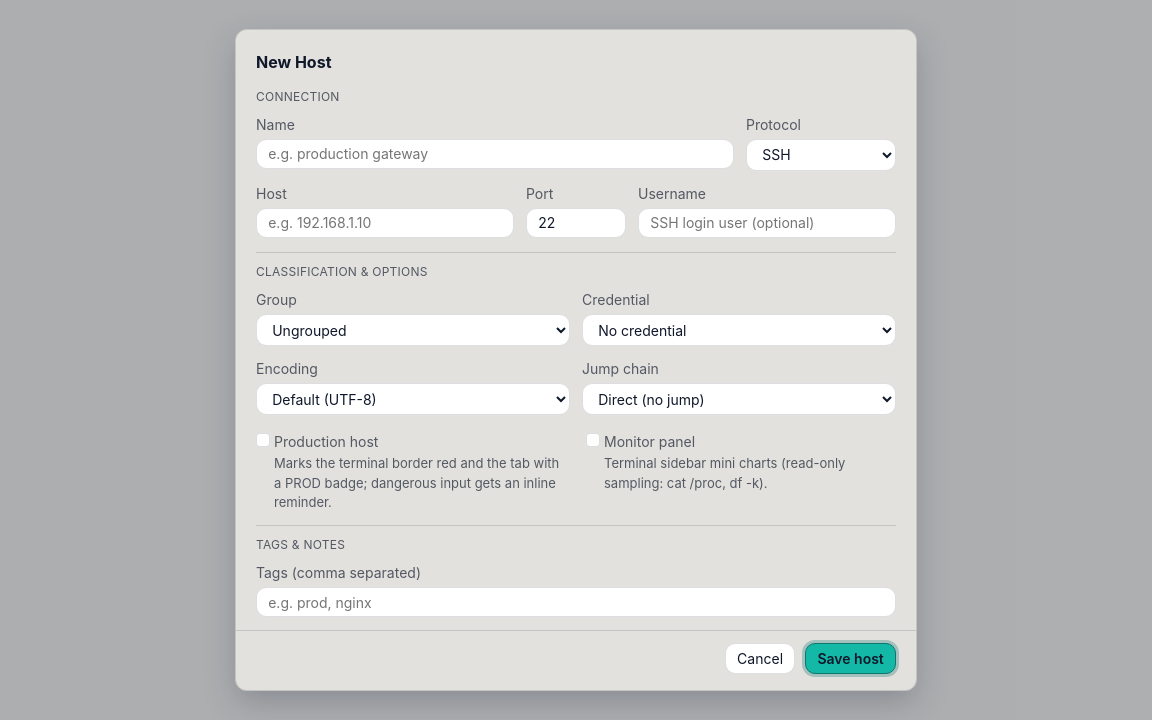
Test: HostForm › 地址为空提交：显示校验错误，不发 hosts_create
Click the button with test id "form-submit": {"x": 851, "y": 658} x1=805 y1=643 x2=896 y2=674
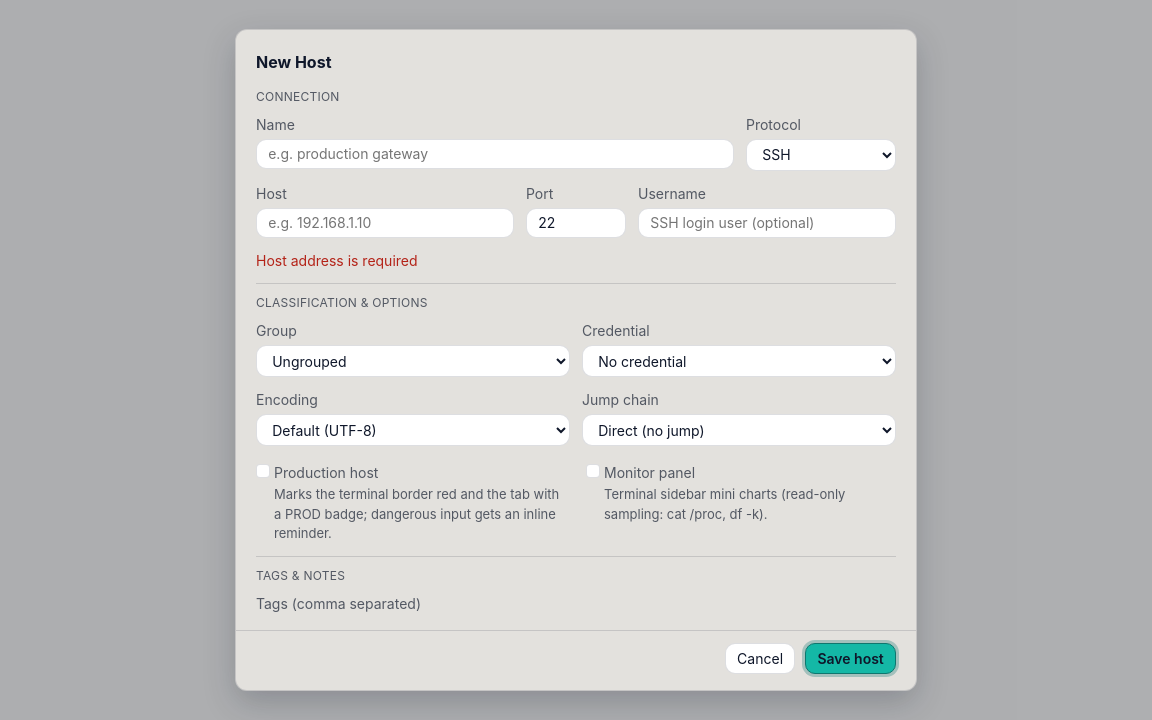
Expected: the text with test id "form-error" reads "Host address is required", x1=256 y1=252 x2=418 y2=269
